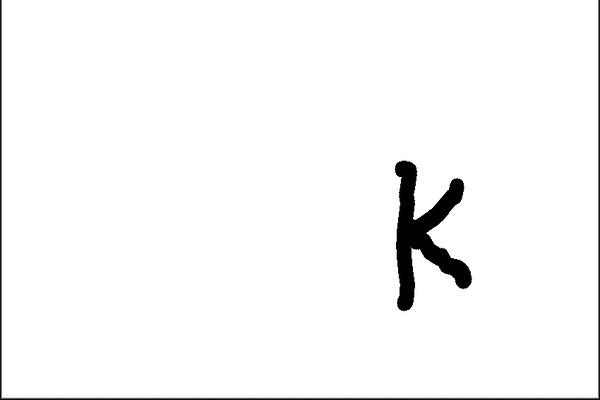K: (386, 157, 476, 315)
